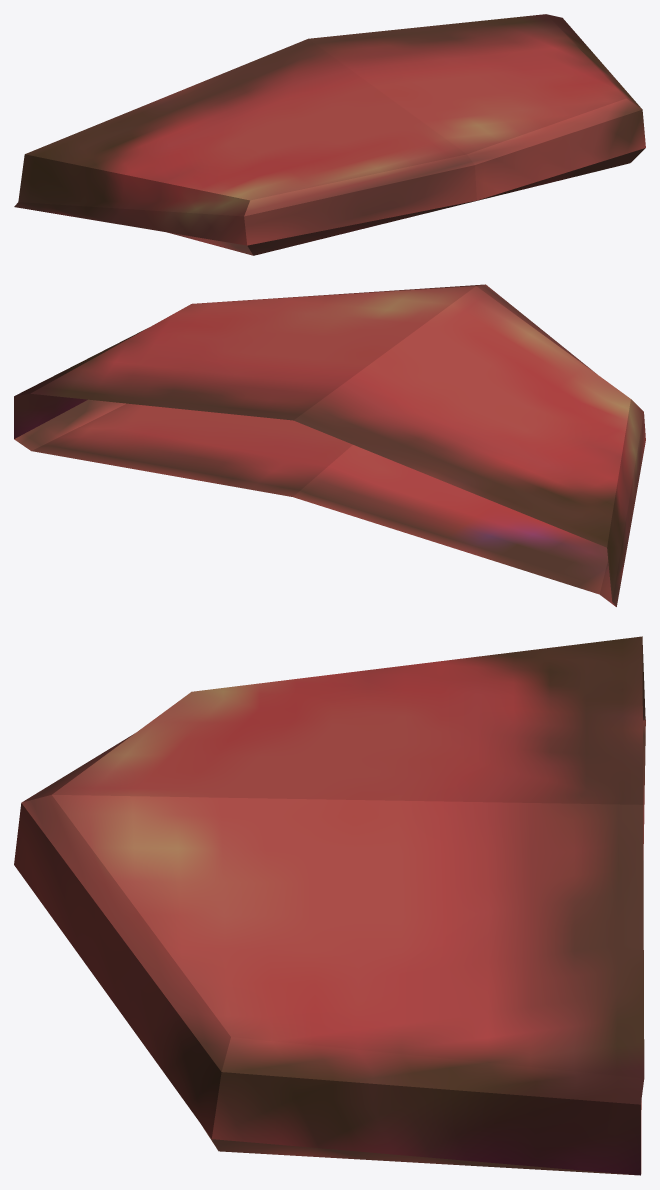
The model's file is fungus_cluster_single.fbx.
3 renders of one model, top to bottom at view 1: azimuth 30°, elevation 25°; view 2: azimuth 150°, elevation 25°; view 3: azimuth 270°, elevation 25°, orthographic. The views are drawn at different scales.
Visible parts, largest first — view 1: fungus_cluster; view 2: fungus_cluster; view 3: fungus_cluster.
Part boxes in pixels (x1,y1,x2,y2): fungus_cluster: (14,14,645,255); fungus_cluster: (14,284,645,606); fungus_cluster: (14,636,645,1175).
Size of the model in its own units: 0.8046 by 0.142 by 0.4411.
Materials: 1 (1 with a texture image).
